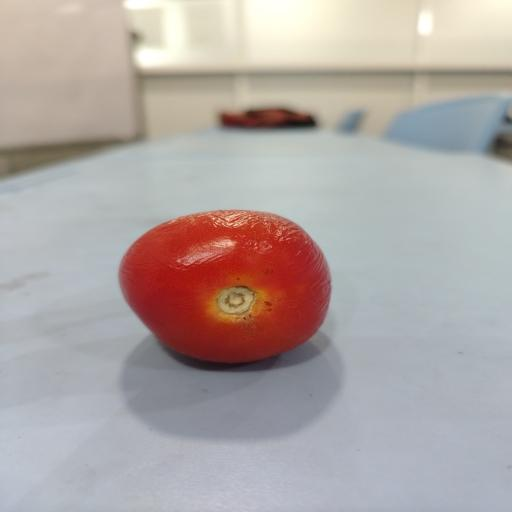spoiled: (120, 210, 330, 362), (208, 238, 236, 247)
